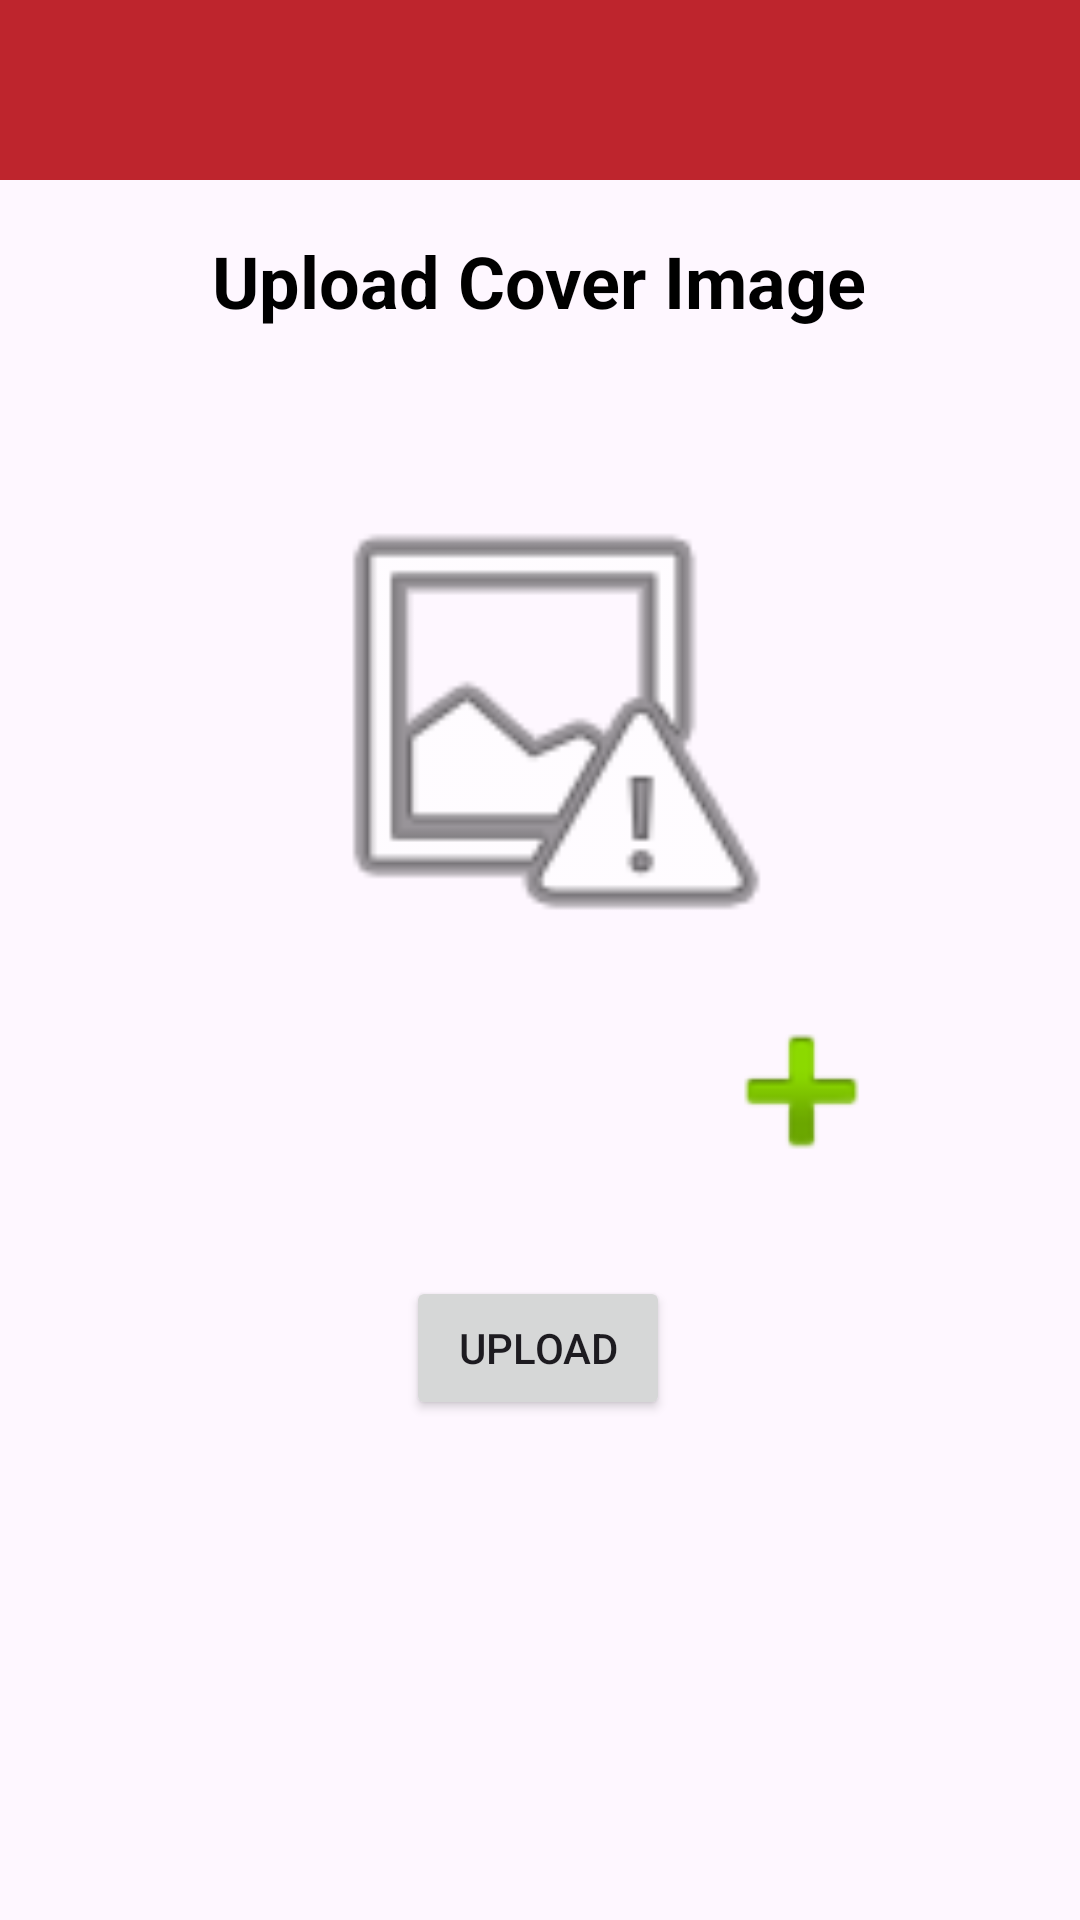

Point at icon controls on the screen. Image size 1080w x 1920h, points as point (x, y).
add: point (801, 1091)
